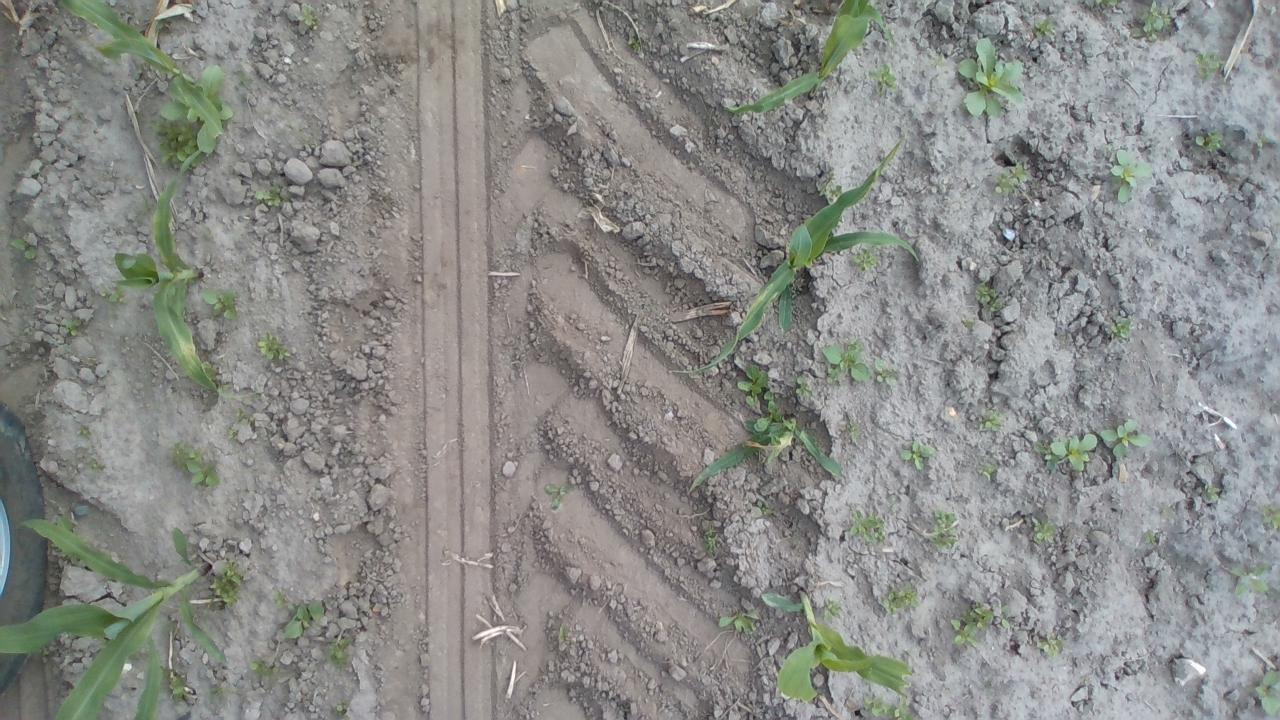Maize: (671, 142, 920, 380), (2, 516, 225, 717), (110, 153, 266, 402), (50, 3, 243, 170), (764, 586, 924, 711), (734, 2, 901, 120), (687, 410, 860, 490)
Weeds: (952, 39, 1028, 120), (270, 588, 326, 642), (171, 444, 227, 494), (1100, 412, 1151, 466), (1108, 146, 1154, 204), (822, 339, 878, 386), (1038, 426, 1090, 476), (148, 132, 212, 169), (1223, 556, 1268, 598), (879, 580, 930, 617), (844, 506, 890, 547), (735, 360, 768, 414), (710, 606, 764, 637), (202, 287, 240, 328), (994, 158, 1031, 200), (899, 436, 942, 472), (540, 476, 576, 518), (213, 566, 248, 608), (942, 617, 984, 652), (974, 597, 1018, 629), (1130, 15, 1170, 48), (1189, 130, 1228, 162), (924, 505, 971, 531), (849, 251, 890, 278), (1251, 674, 1280, 712), (260, 336, 292, 368), (1031, 514, 1061, 548), (1196, 53, 1226, 87), (975, 281, 1006, 310), (790, 368, 815, 403), (750, 490, 774, 524), (8, 237, 43, 260), (879, 358, 900, 394), (1034, 638, 1064, 663), (56, 318, 88, 341), (85, 454, 112, 481), (330, 630, 350, 666), (977, 409, 1008, 432), (1034, 17, 1058, 46), (244, 659, 280, 678), (872, 65, 898, 91), (1107, 314, 1132, 340), (254, 184, 282, 207), (701, 526, 724, 554), (298, 4, 320, 33), (822, 598, 846, 622), (1200, 483, 1223, 506), (982, 458, 1002, 484), (77, 420, 100, 441), (1254, 132, 1270, 162)
